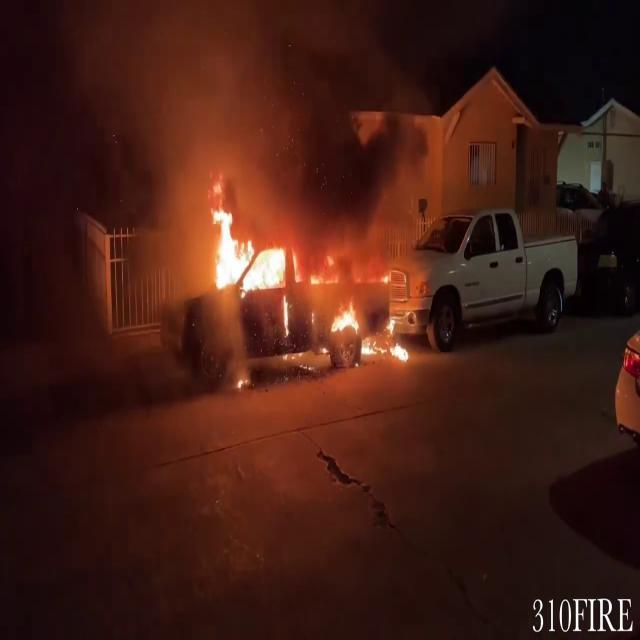Fire: (202, 192, 288, 298), (331, 274, 414, 362)
Smoke: (82, 1, 446, 248)
